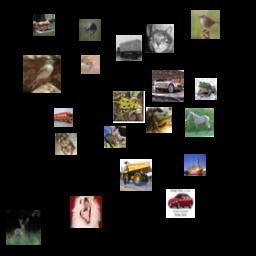automobile: (152, 70, 184, 102), (166, 189, 195, 218)
bird: (23, 55, 61, 93), (191, 10, 220, 39), (79, 19, 101, 41)
cat: (145, 24, 174, 53), (104, 126, 126, 148), (81, 55, 100, 74)
deer: (6, 210, 41, 245)
dog: (70, 196, 102, 228), (55, 133, 77, 155)
frog: (113, 91, 145, 123), (146, 107, 172, 133), (195, 78, 217, 100)
ship: (184, 154, 206, 176)
truck: (120, 159, 152, 191), (116, 35, 142, 61), (54, 108, 73, 127)
